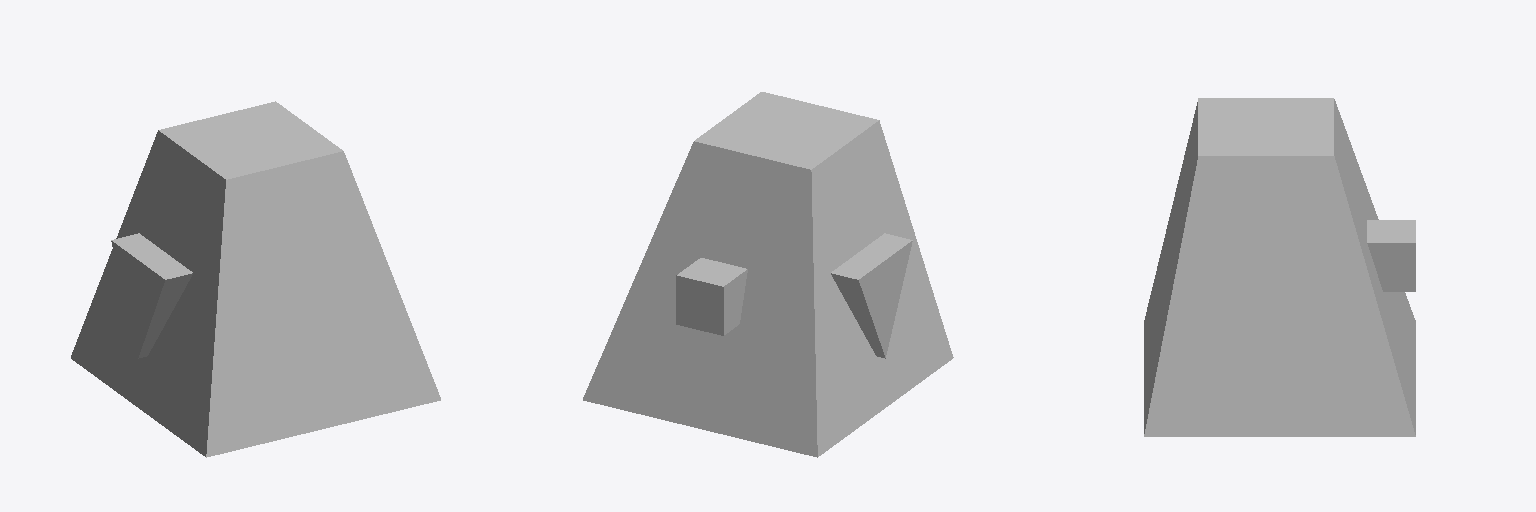
The model's file is thing-y-x.obj.
3 views of the same model, side by side, from view 1: azimuth 30°, elevation 25°; view 2: azimuth 150°, elevation 25°; view 3: azimuth 270°, elevation 25° (orthographic).
Parts seen in each view (by area): view 1: Cube; view 2: Cube; view 3: Cube.
Boxes of the visible parts, <box> form: Cube: <box>71,101,440,457</box>; Cube: <box>583,92,953,457</box>; Cube: <box>1144,98,1415,436</box>.
Size of the model in its own units: 1 by 1 by 1.